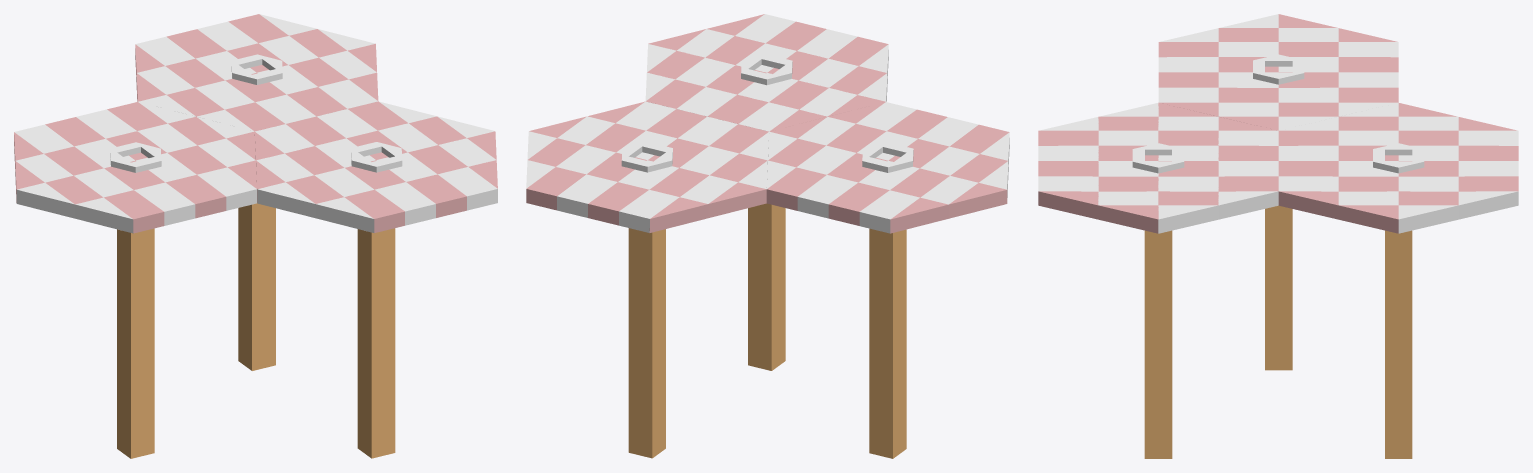
Rendered from plataforma3.glb.
The picture shows the model from 3 angles, left to right: view 1: azimuth 30°, elevation 25°; view 2: azimuth 150°, elevation 25°; view 3: azimuth 270°, elevation 25°; orthographic projection.
Parts seen in each view (by area): view 1: Cube.011, Cube.002, Cube.012; view 2: Cube.011, Cube.002, Cube.012; view 3: Cube.011, Cube.002, Cube.012.
Boxes of the visible parts, left/top/right/bottom form: Cube.011: left=14, top=14, right=497, bottom=458; Cube.002: left=135, top=14, right=378, bottom=370; Cube.012: left=255, top=101, right=497, bottom=458; Cube.011: left=526, top=14, right=1009, bottom=458; Cube.002: left=526, top=101, right=769, bottom=231; Cube.012: left=645, top=14, right=888, bottom=362; Cube.011: left=1038, top=14, right=1518, bottom=458; Cube.002: left=1278, top=102, right=1518, bottom=458; Cube.012: left=1038, top=102, right=1278, bottom=458.
Bounding box in the file's own units: 2.98 × 2.01 × 2.94.
